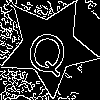Q: (23, 21, 72, 79)
